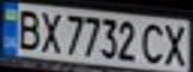2: (115, 17, 142, 63)
3: (100, 15, 121, 61)
7: (78, 12, 103, 57), (60, 11, 84, 56)
B: (9, 6, 42, 51)
C: (139, 20, 169, 65)
X: (160, 20, 193, 68), (33, 8, 63, 53)
